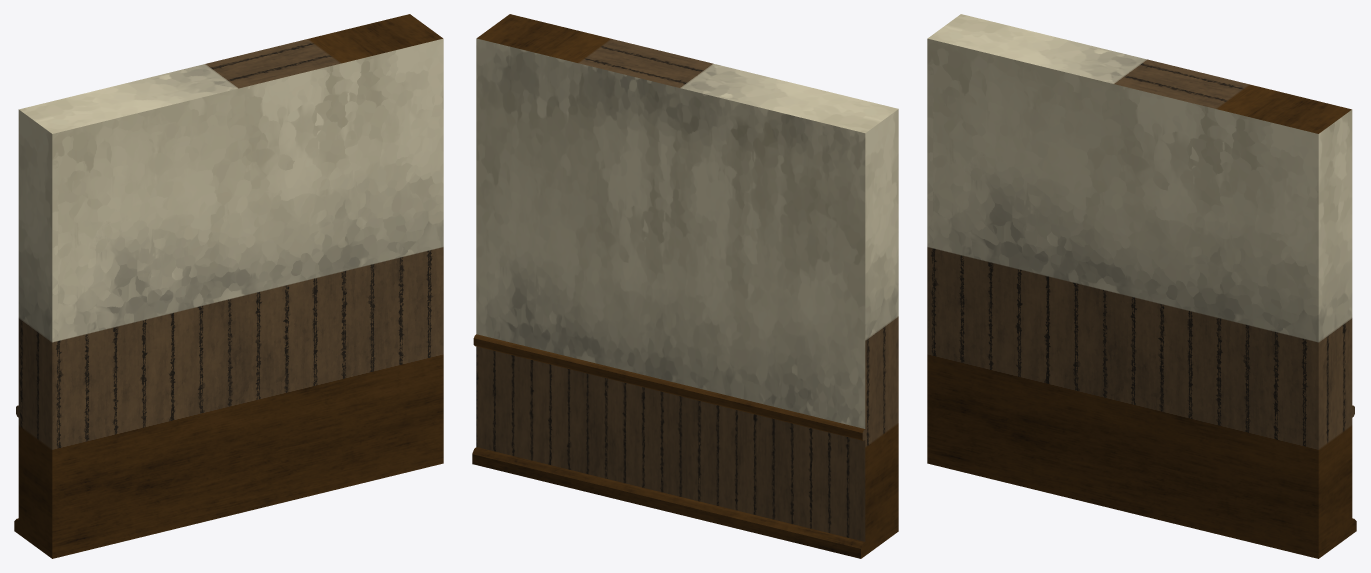
The model's file is Wall.fbx.
3 renders of one model, left to right at view 1: azimuth 30°, elevation 25°; view 2: azimuth 150°, elevation 25°; view 3: azimuth 330°, elevation 25°, orthographic.
Visible parts, largest first — view 1: Wall_1; view 2: Wall_1; view 3: Wall_1.
Boxes of the visible parts, x1=… form: Wall_1: x1=14, y1=14, x2=443, y2=558; Wall_1: x1=472, y1=14, x2=898, y2=558; Wall_1: x1=927, y1=14, x2=1356, y2=558.
Size of the model in its own units: 261 by 271 by 43.84.
